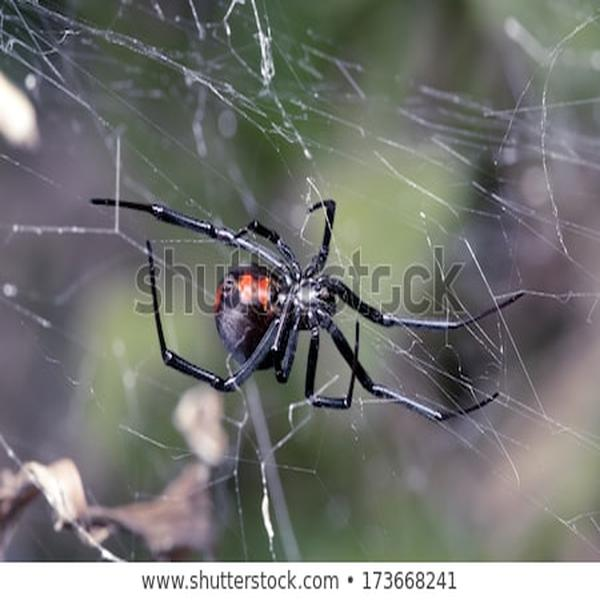Redback Spider: (90, 194, 523, 427)
